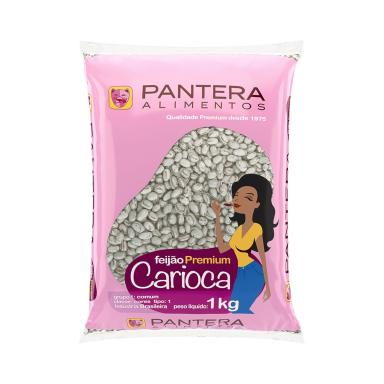beans package: (81, 42, 302, 341)
